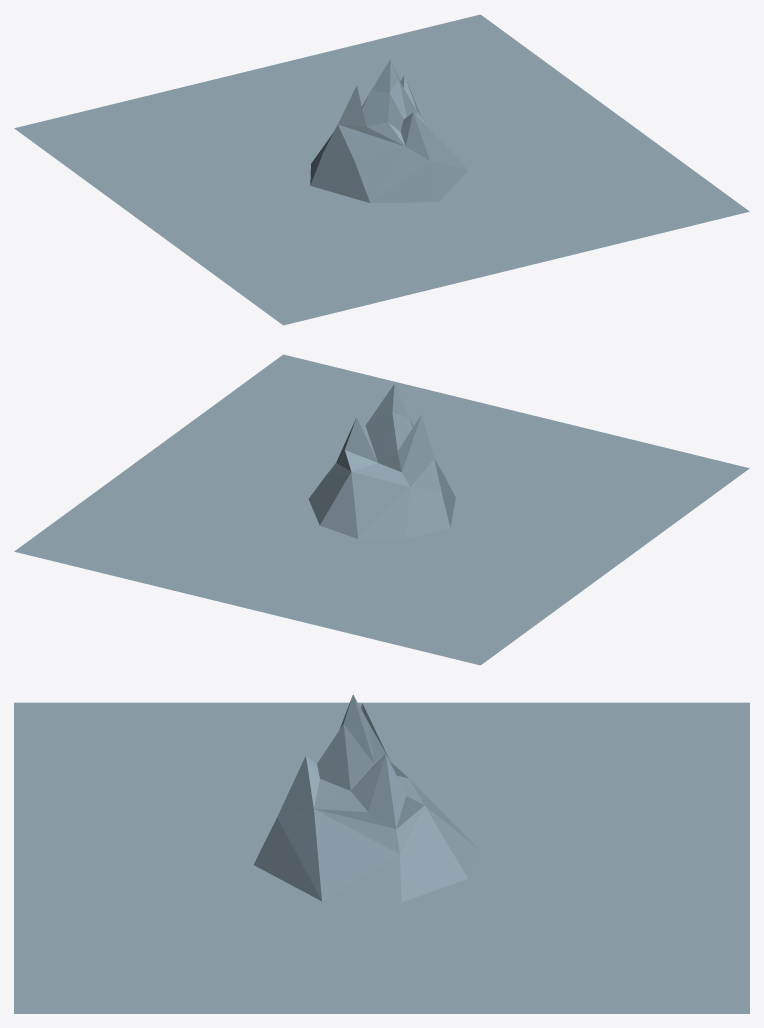
The model's file is Tile 54_Combined.fbx.
The picture shows the model from 3 angles, top to bottom: view 1: azimuth 30°, elevation 25°; view 2: azimuth 150°, elevation 25°; view 3: azimuth 270°, elevation 25°; orthographic projection. The views are drawn at different scales.
Parts seen in each view (by area): view 1: MeshBaker_mesh_mesh; view 2: MeshBaker_mesh_mesh; view 3: MeshBaker_mesh_mesh.
Part boxes in pixels (left/top/right/bottom): MeshBaker_mesh_mesh: left=14, top=14, right=749, bottom=325; MeshBaker_mesh_mesh: left=14, top=354, right=749, bottom=665; MeshBaker_mesh_mesh: left=14, top=694, right=749, bottom=1013.
Bounding box in the file's own units: 3000 × 732 × 3000.
